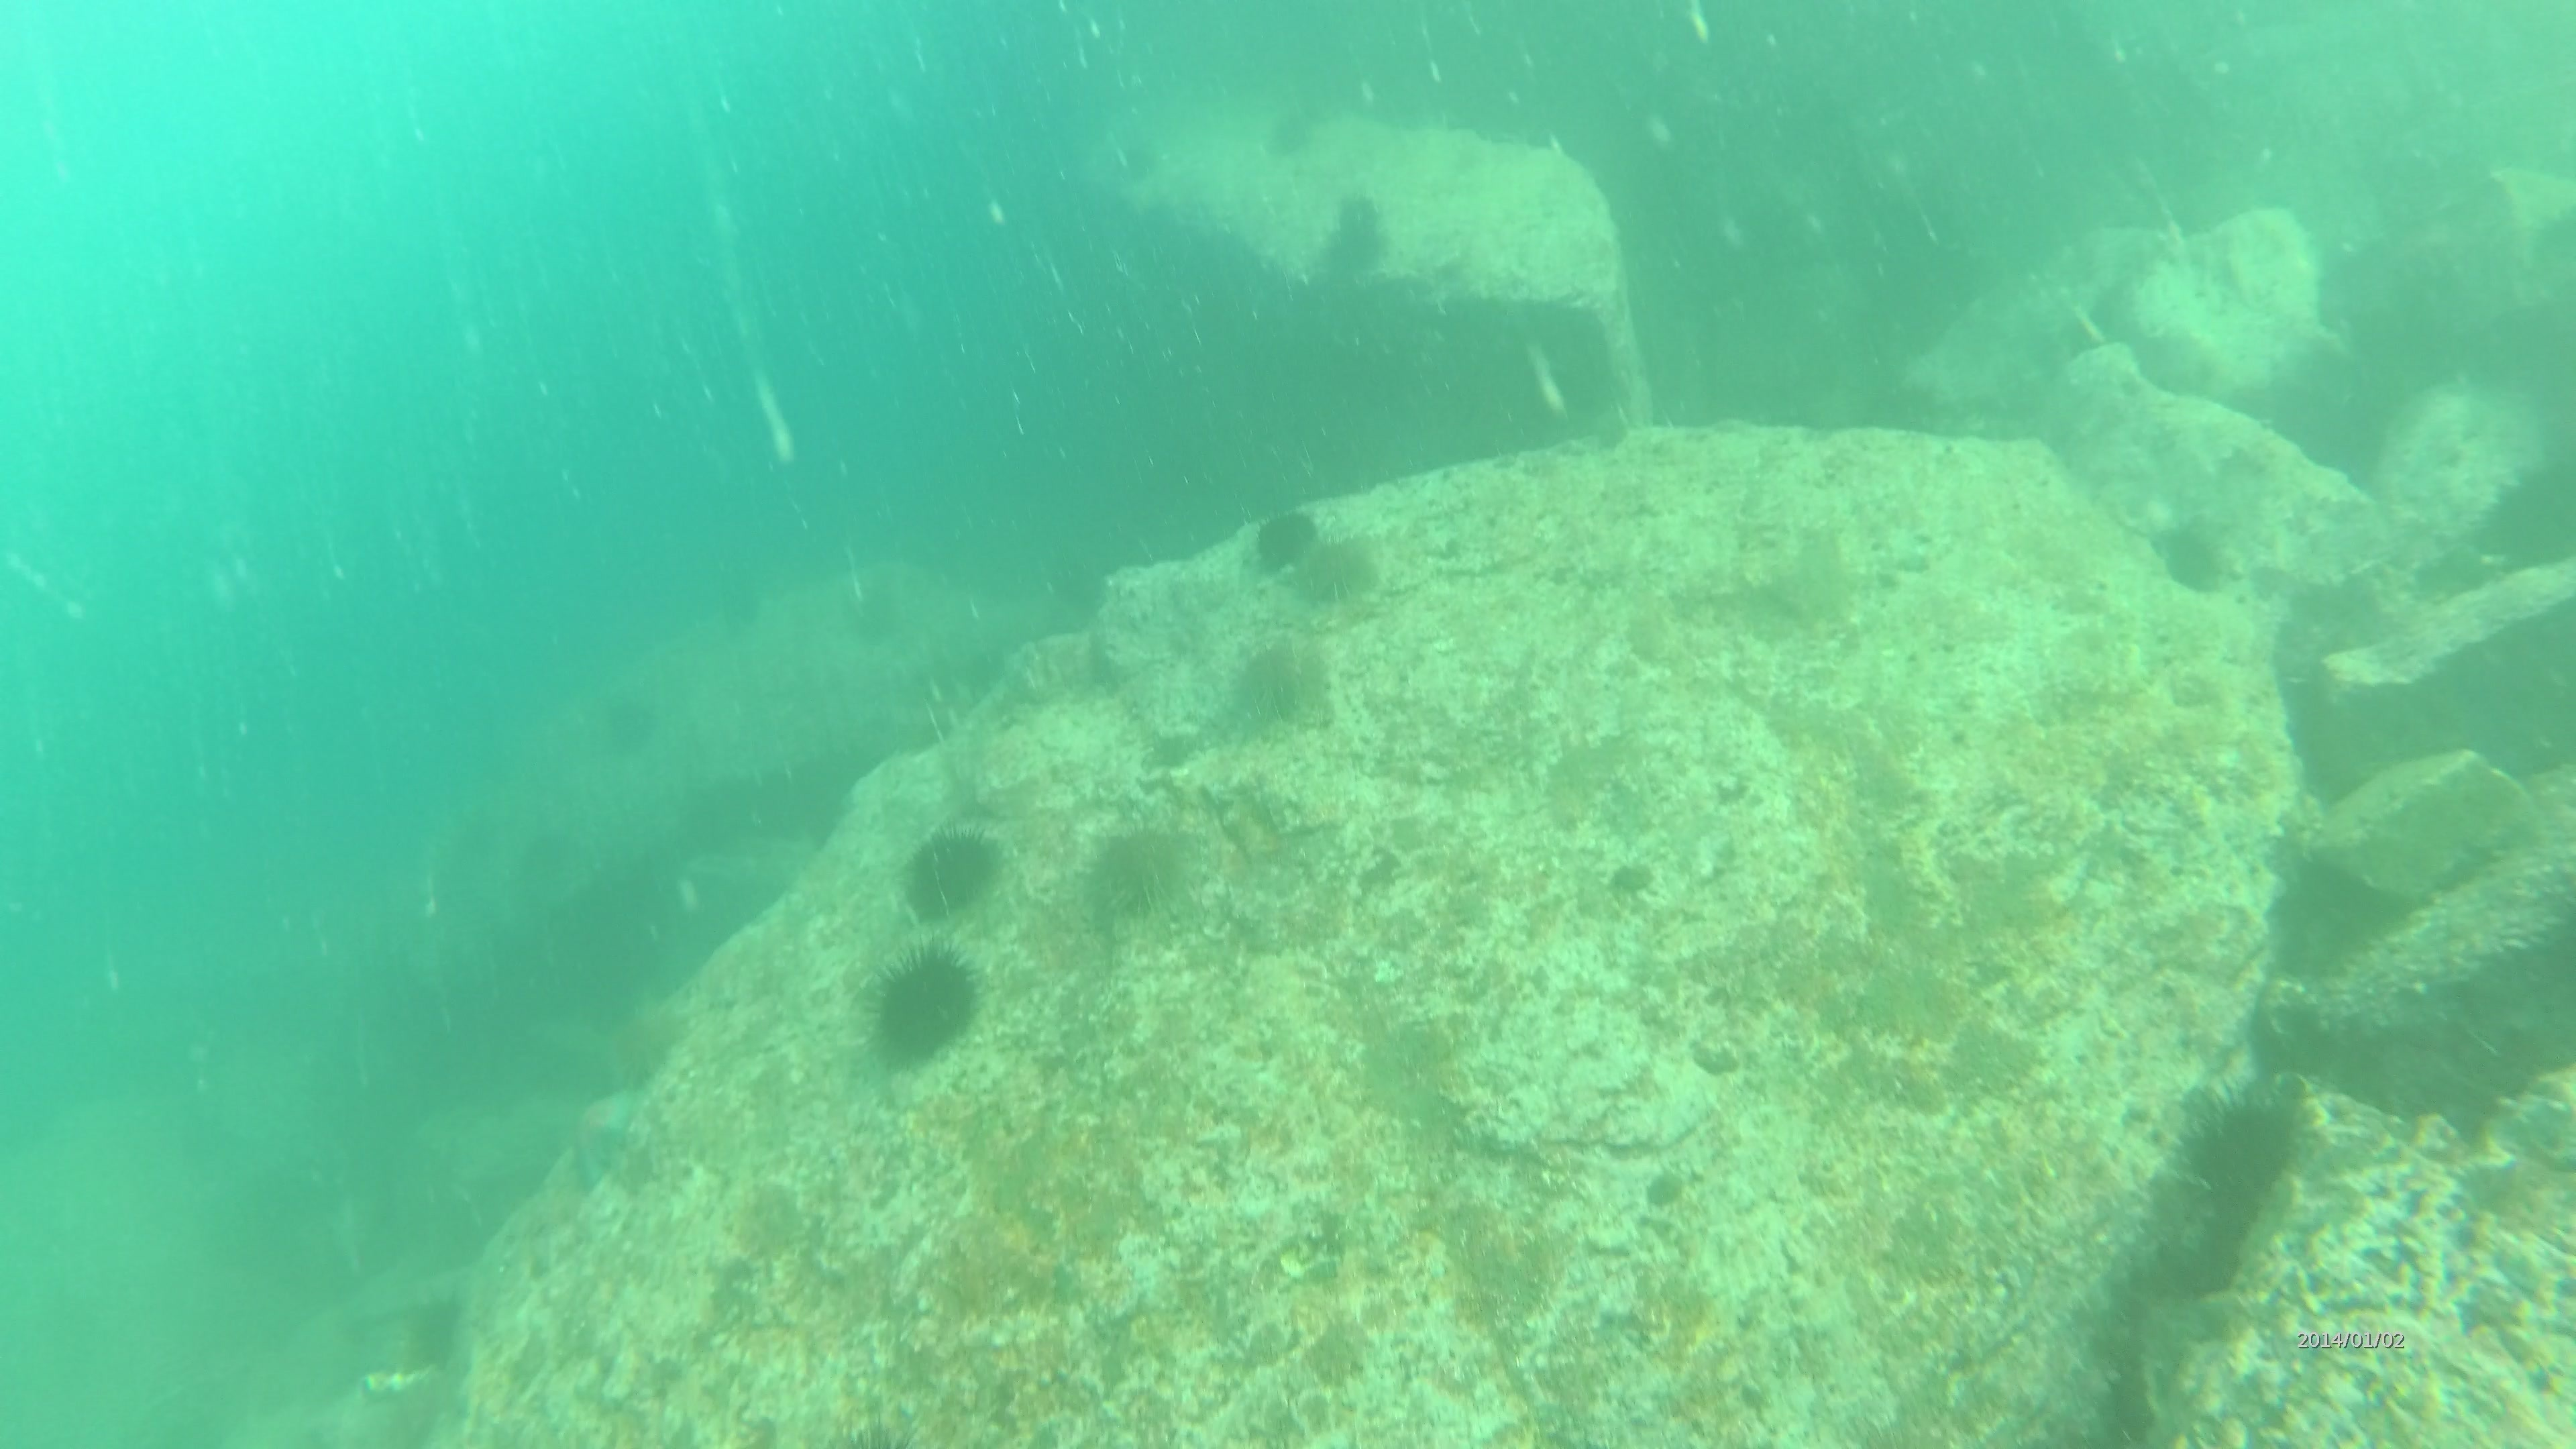echinus: (2173, 1083, 2312, 1219), (860, 941, 985, 1072), (1079, 814, 1201, 927), (2477, 453, 2576, 579), (897, 819, 1008, 925), (594, 989, 690, 1095), (1224, 633, 1323, 732), (1281, 524, 1382, 610), (2148, 511, 2236, 600), (395, 1286, 474, 1376), (1242, 501, 1323, 579), (591, 683, 667, 761), (1258, 96, 1323, 165), (1318, 230, 1387, 278), (1338, 193, 1380, 232)
starfish: (548, 1081, 648, 1194)
